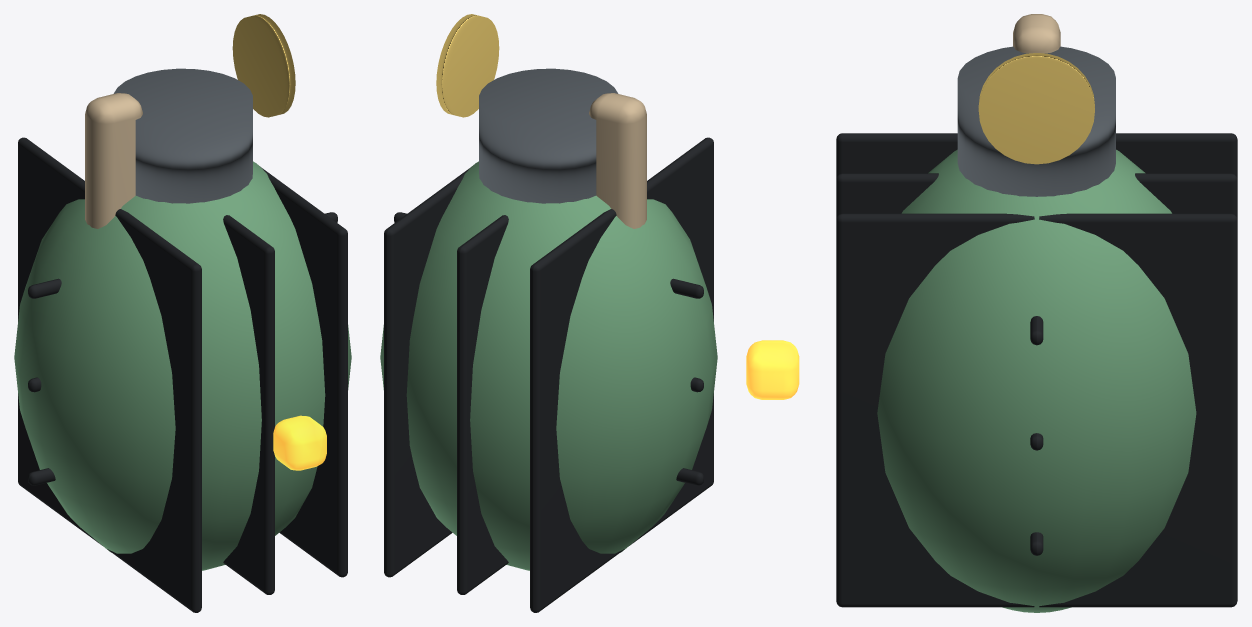
Rendered from cartoon_grenade.glb.
3 renders of one model, left to right at view 1: azimuth 30°, elevation 25°; view 2: azimuth 150°, elevation 25°; view 3: azimuth 270°, elevation 25°, orthographic. The views are drawn at different scales.
Parts seen in each view (by area): view 1: grenade_body_segmented_shell, grenade_vertical_groove_-0.18, grenade_fuse_cap, grenade_vertical_groove_+0.18, grenade_vertical_groove_+0.00, grenade_safety_lever, grenade_pull_ring, grenade_throw_socket_hidden, grenade_horizontal_groove_+0.24; view 2: grenade_body_segmented_shell, grenade_vertical_groove_-0.18, grenade_fuse_cap, grenade_vertical_groove_+0.18, grenade_vertical_groove_+0.00, grenade_safety_lever, grenade_pull_ring, grenade_horizontal_groove_+0.24; view 3: grenade_body_segmented_shell, grenade_vertical_groove_+0.18, grenade_fuse_cap, grenade_pull_ring, grenade_vertical_groove_-0.18, grenade_vertical_groove_+0.00, grenade_throw_socket_hidden, grenade_safety_lever.
Boxes of the visible parts, x1,y1,x2,y2 form: grenade_body_segmented_shell: [14, 161, 351, 570]; grenade_vertical_groove_-0.18: [18, 137, 201, 612]; grenade_fuse_cap: [113, 68, 252, 203]; grenade_vertical_groove_+0.18: [261, 167, 347, 577]; grenade_vertical_groove_+0.00: [223, 215, 274, 594]; grenade_safety_lever: [85, 93, 142, 228]; grenade_pull_ring: [232, 14, 295, 117]; grenade_throw_socket_hidden: [273, 415, 326, 470]; grenade_horizontal_groove_+0.24: [28, 212, 337, 298]; grenade_body_segmented_shell: [380, 161, 717, 570]; grenade_vertical_groove_-0.18: [530, 137, 713, 612]; grenade_fuse_cap: [479, 68, 618, 203]; grenade_vertical_groove_+0.18: [384, 167, 470, 577]; grenade_vertical_groove_+0.00: [457, 215, 508, 594]; grenade_safety_lever: [589, 93, 646, 228]; grenade_pull_ring: [436, 14, 499, 117]; grenade_horizontal_groove_+0.24: [394, 212, 703, 298]; grenade_body_segmented_shell: [877, 149, 1196, 612]; grenade_vertical_groove_+0.18: [836, 213, 1237, 607]; grenade_fuse_cap: [957, 46, 1115, 196]; grenade_pull_ring: [978, 53, 1094, 164]; grenade_vertical_groove_-0.18: [836, 133, 1237, 178]; grenade_vertical_groove_+0.00: [836, 173, 1237, 219]; grenade_throw_socket_hidden: [746, 340, 799, 399]; grenade_safety_lever: [1013, 14, 1060, 53].
Size of the model in its own units: 0.76 by 1.23 by 0.93.
